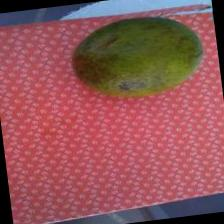Orange Rotten: (52, 5, 216, 106)
